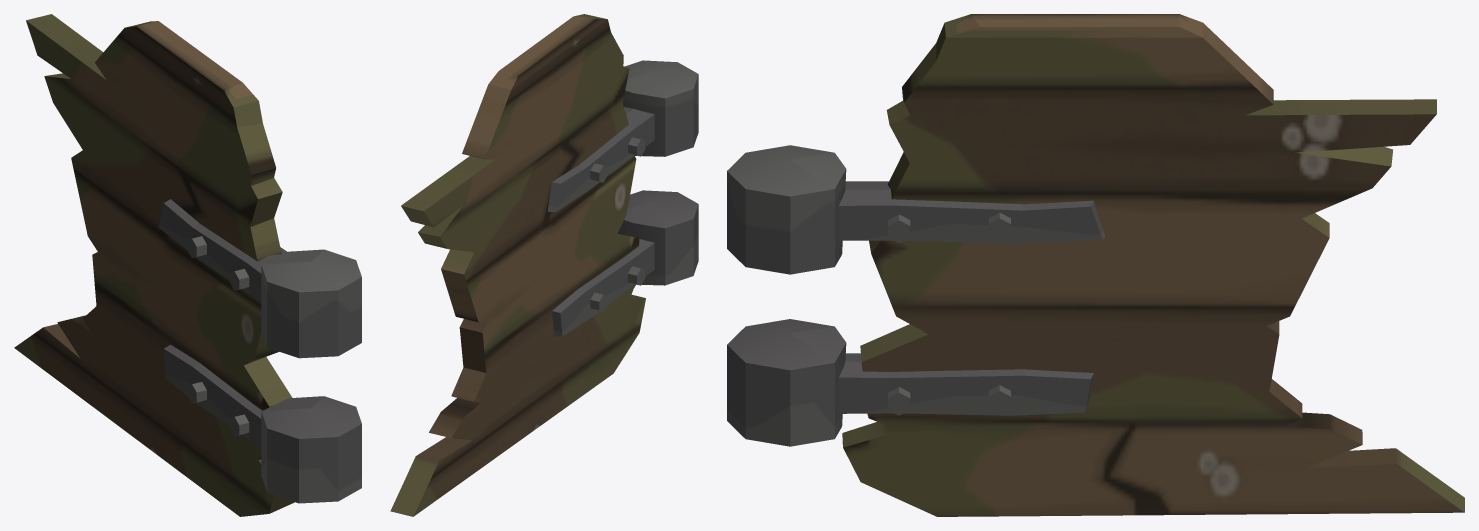
File: SM_Veh_Ship_S_Rudder_02.fbx
The picture shows the model from 3 angles, left to right: view 1: azimuth 30°, elevation 25°; view 2: azimuth 150°, elevation 25°; view 3: azimuth 270°, elevation 25°; orthographic projection. The views are drawn at different scales.
Visible parts, largest first — view 1: SM_Veh_Ship_S_Rudder_02; view 2: SM_Veh_Ship_S_Rudder_02; view 3: SM_Veh_Ship_S_Rudder_02.
Part boxes in pixels (left/top/right/bottom): SM_Veh_Ship_S_Rudder_02: left=14, top=14, right=361, bottom=516; SM_Veh_Ship_S_Rudder_02: left=390, top=14, right=698, bottom=516; SM_Veh_Ship_S_Rudder_02: left=727, top=14, right=1464, bottom=516.
Size of the model in its own units: 37.01 by 164 by 225.
